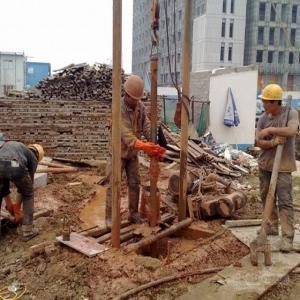red: (124, 75, 146, 108)
yellow: (261, 83, 284, 115), (27, 140, 46, 165)
